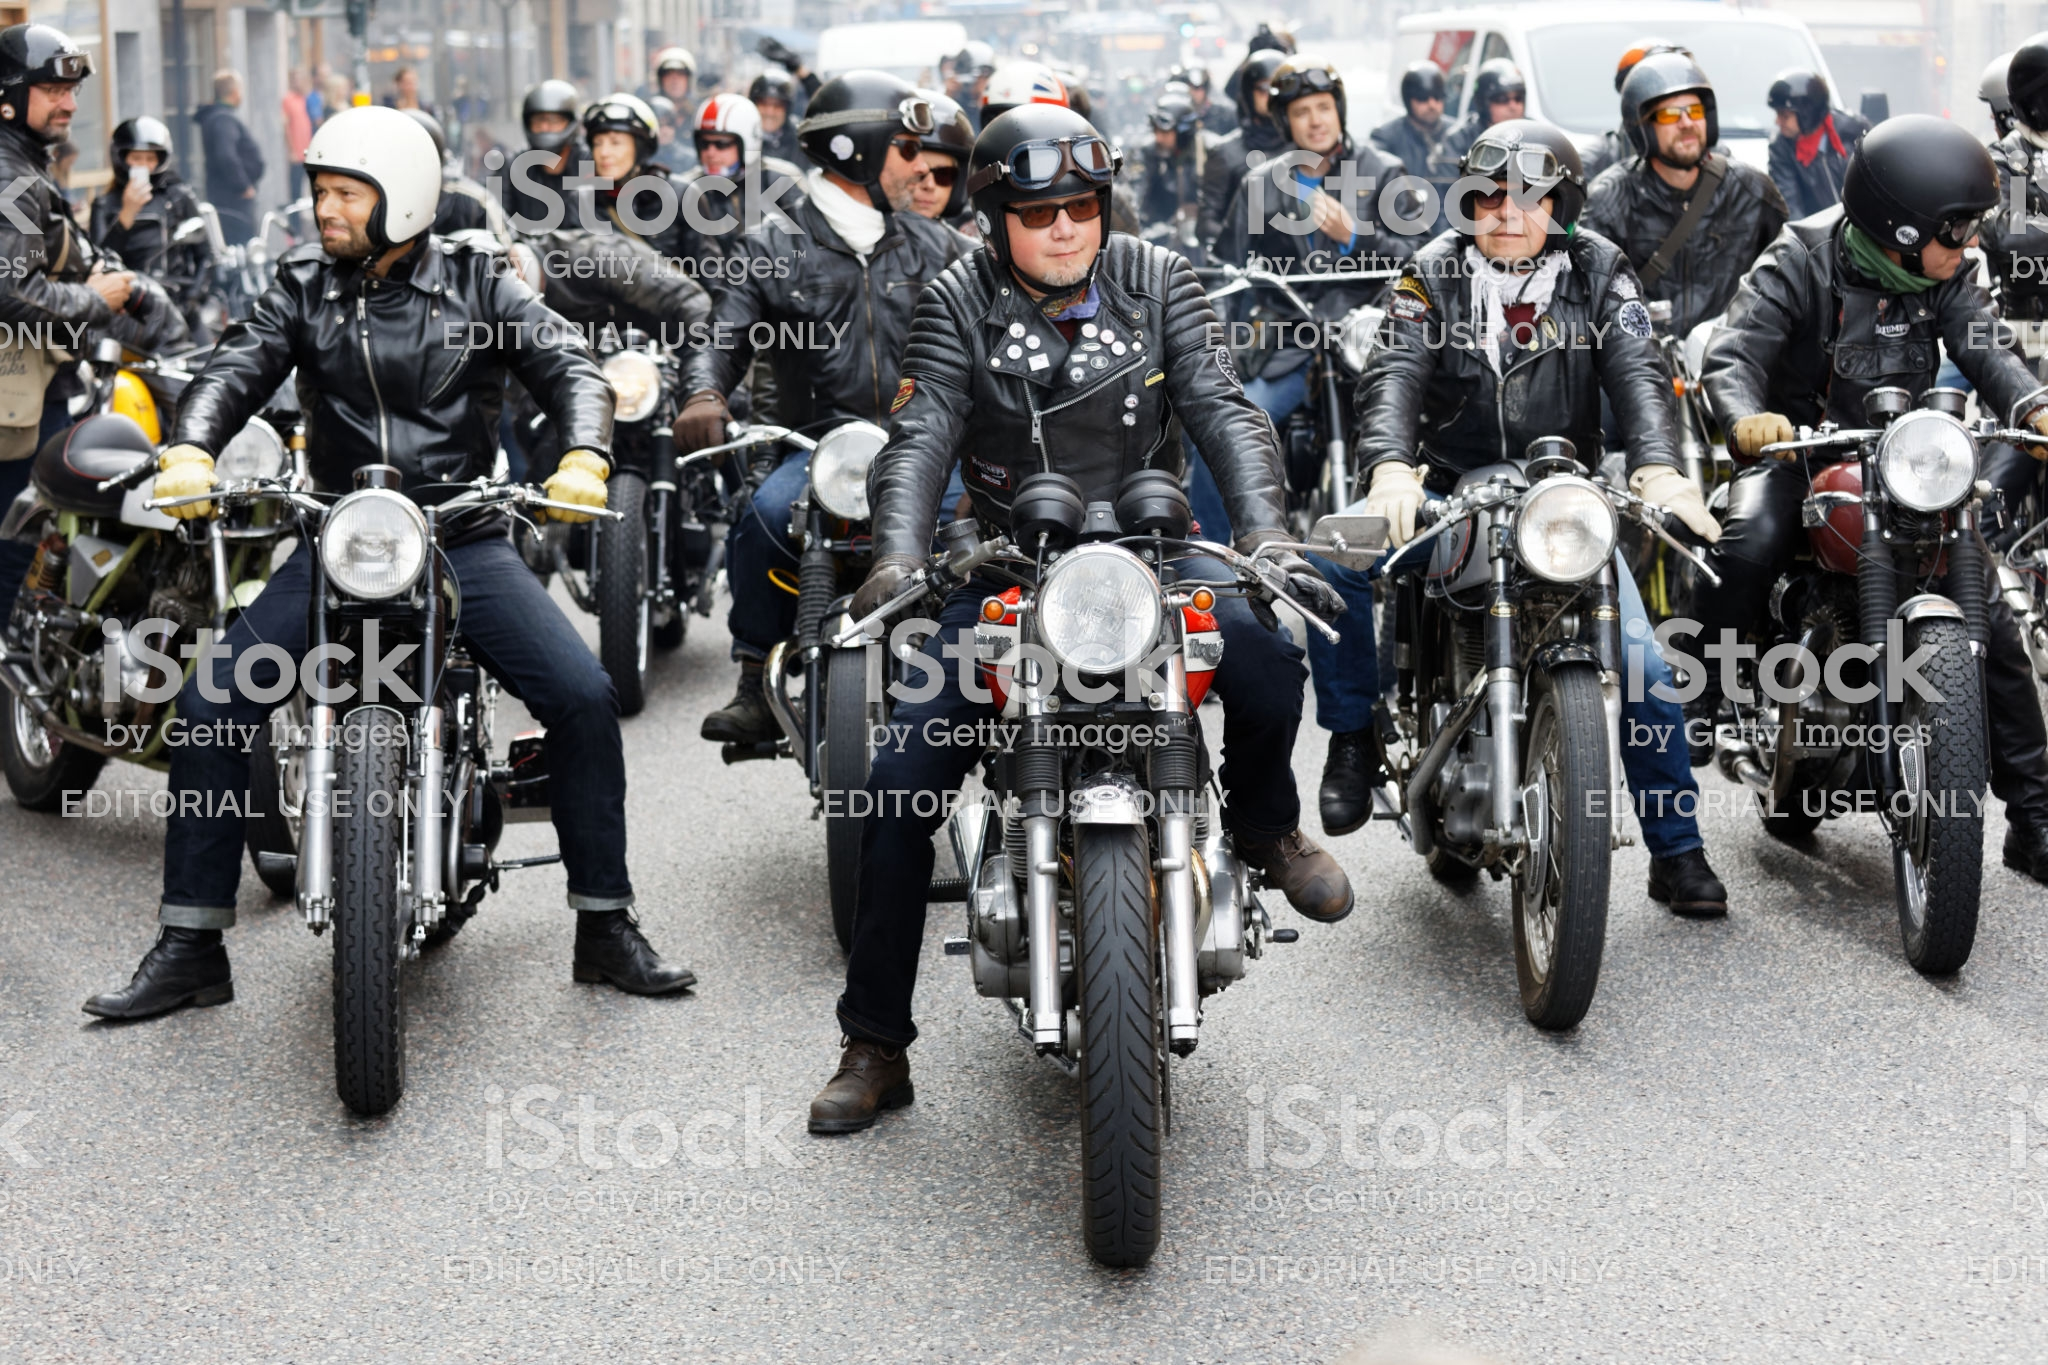helmet: (301, 108, 471, 256), (967, 107, 1137, 206), (1471, 126, 1603, 222)
